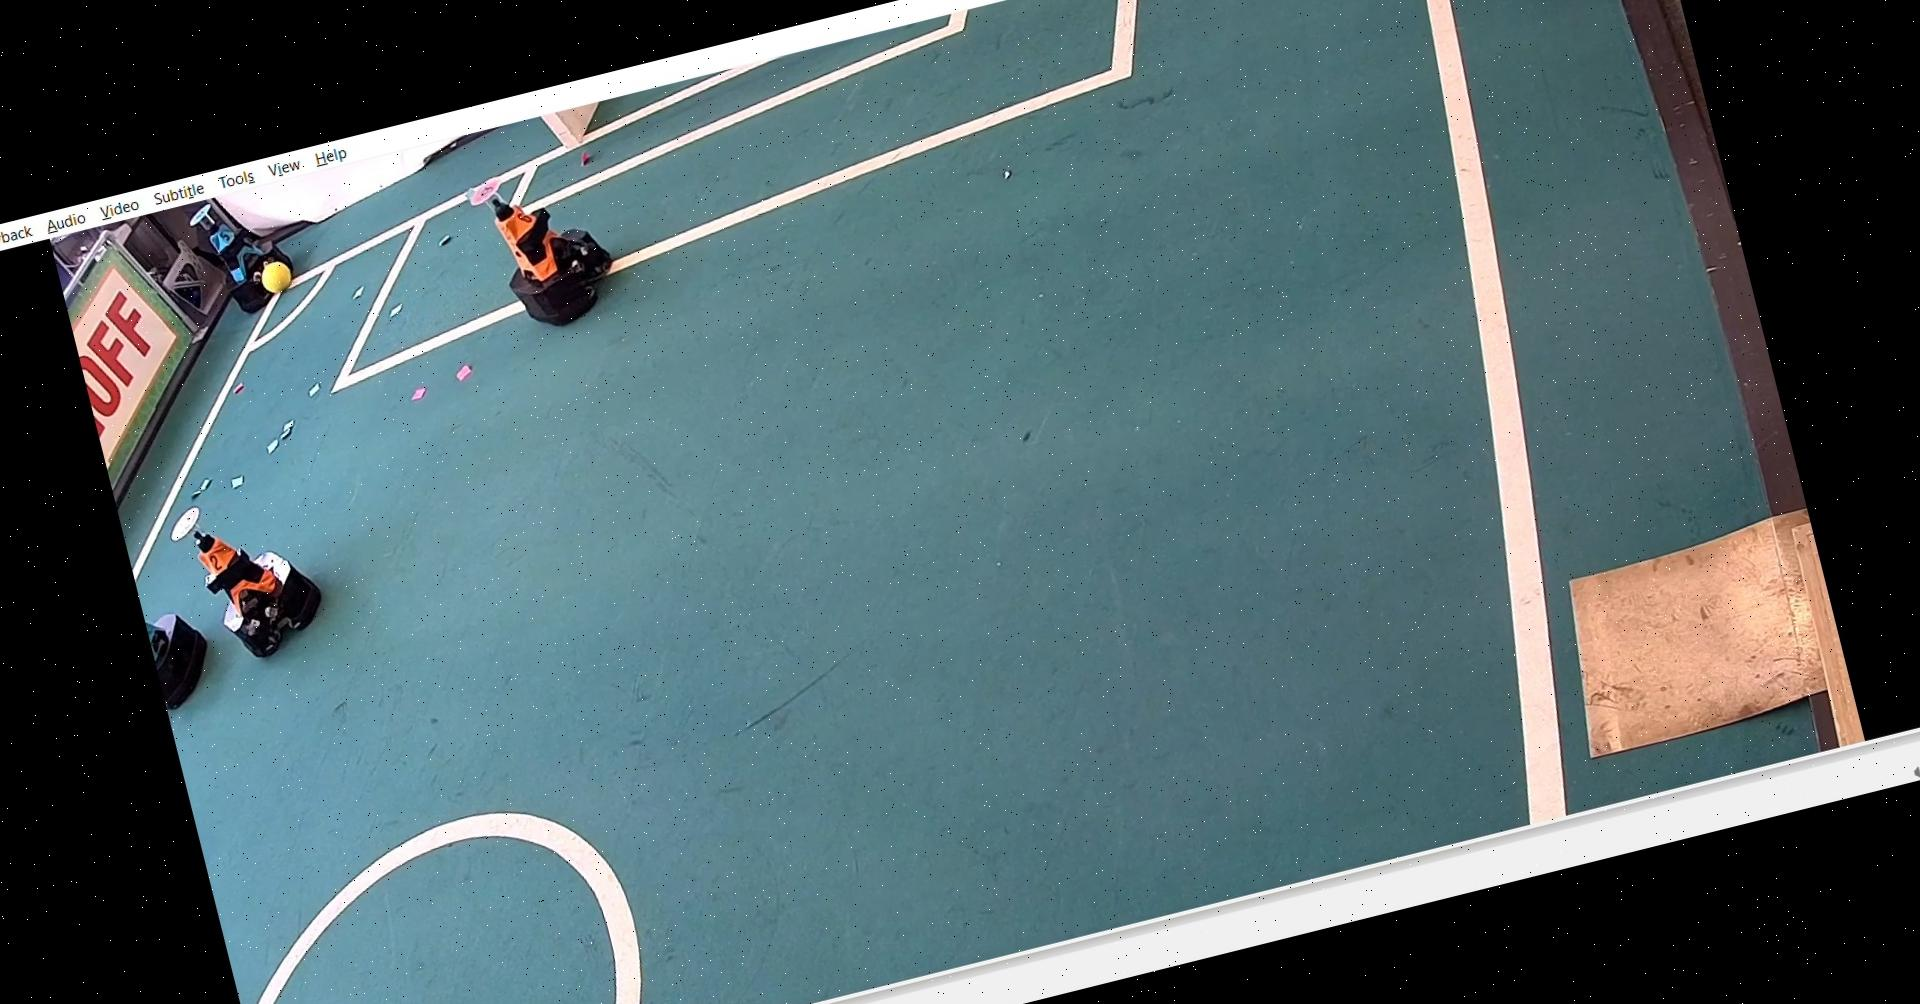Ball: (250, 251, 298, 297)
Team_Blue: (184, 183, 307, 325)
Team_Red: (460, 149, 627, 349)
